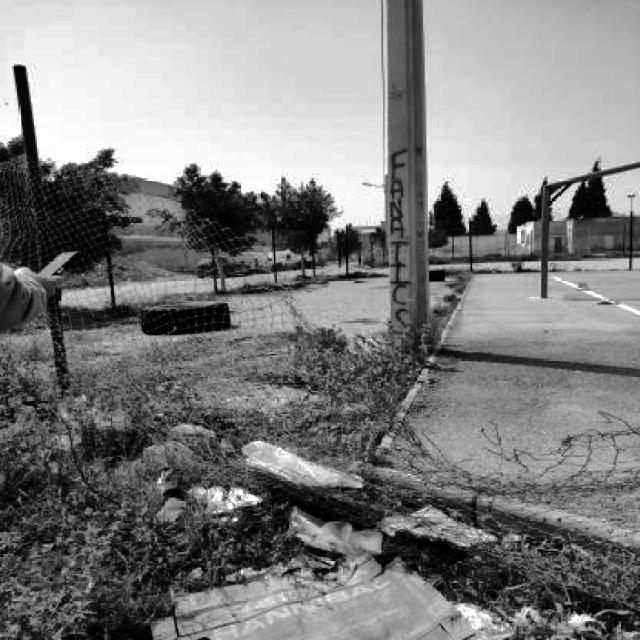anomaly-fence: (2, 113, 640, 513)
